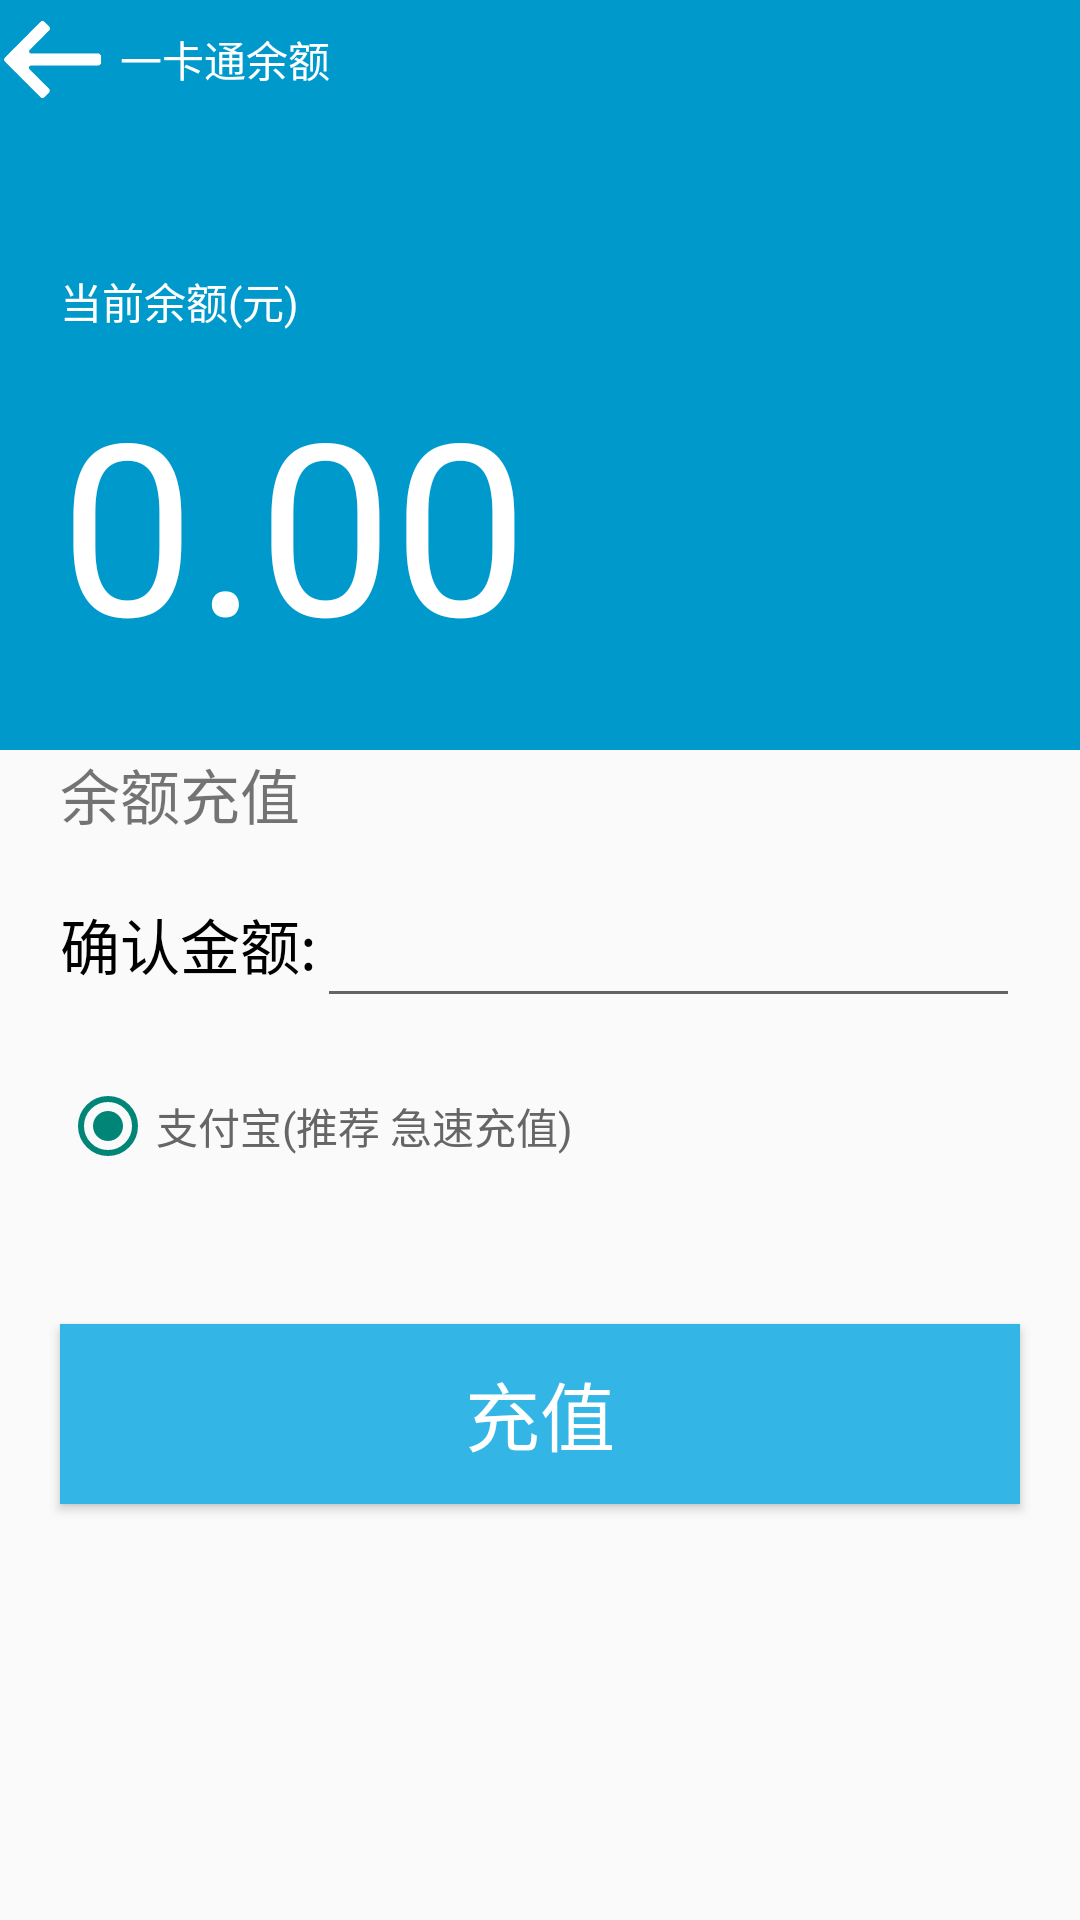

Point at icon controls on the screen. Image size 1080w x 1920h, points as point (x, y).
back: point (52, 59)
